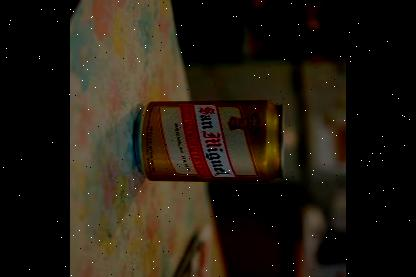Can: (134, 99, 286, 184)
